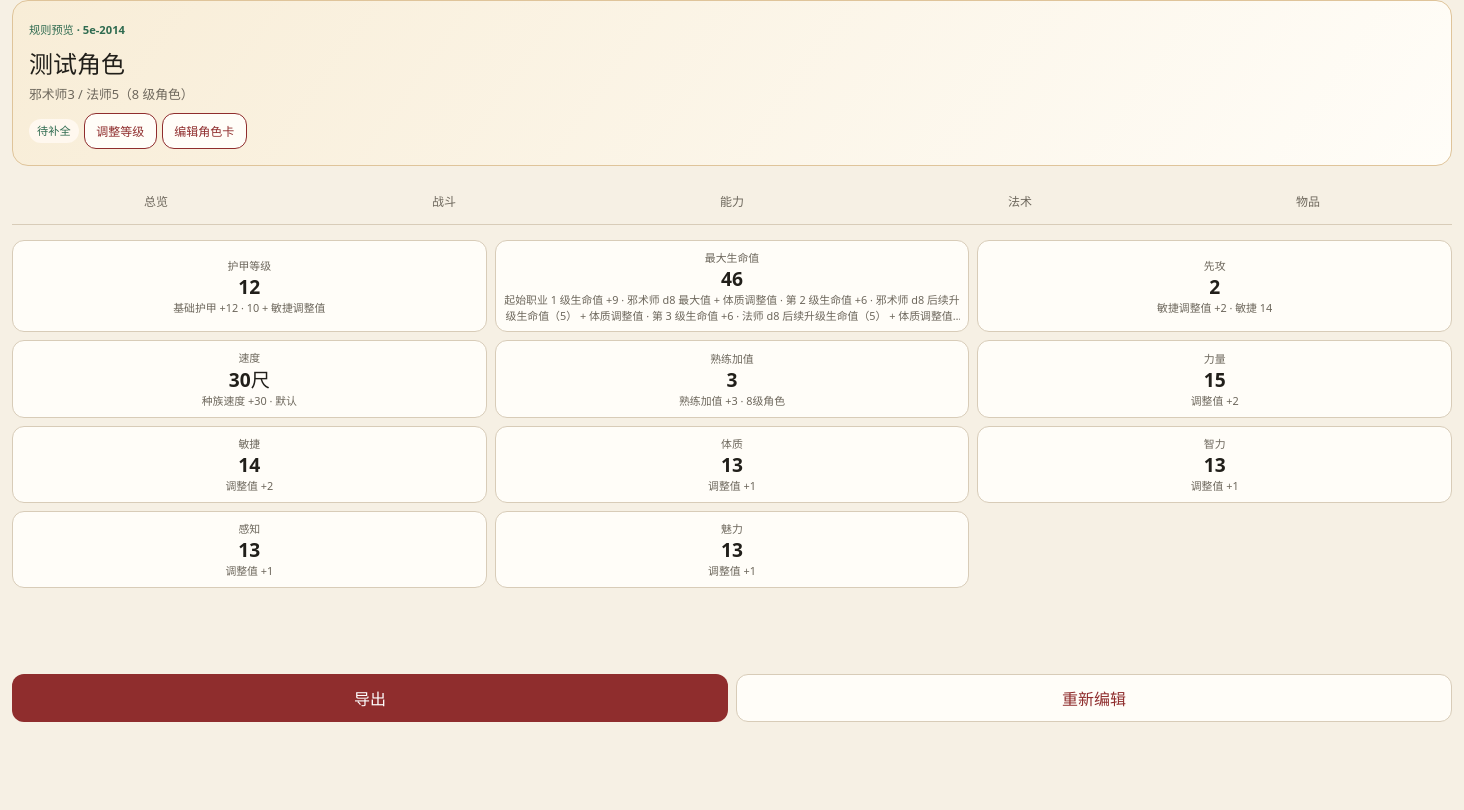
MC-E03 角色卡多职业展示 › 兼职法术位同时展示通用池与契约池
The image size is (1464, 810).
Click the tab "法术" at (1020, 202), box [876,180,1164,224]
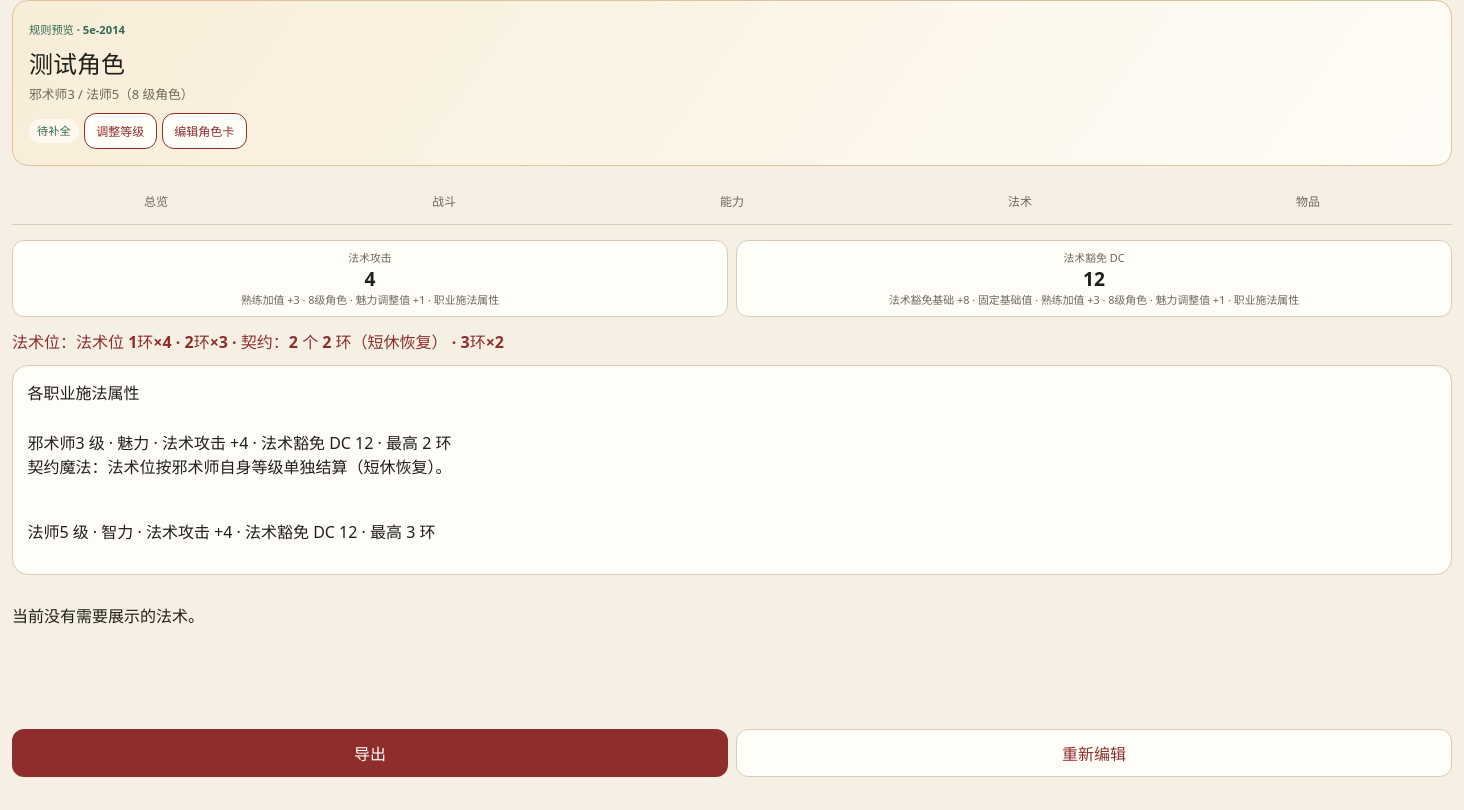
Check: the text "契约：" is shown, box [12,330,504,352]
Check: the text "1环×4" is shown, box [12,330,504,352]
